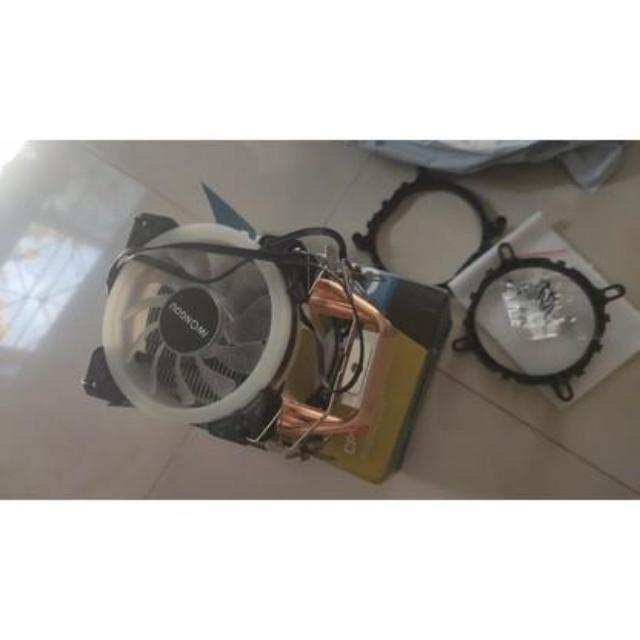CPU_Fan: (76, 180, 470, 482)
